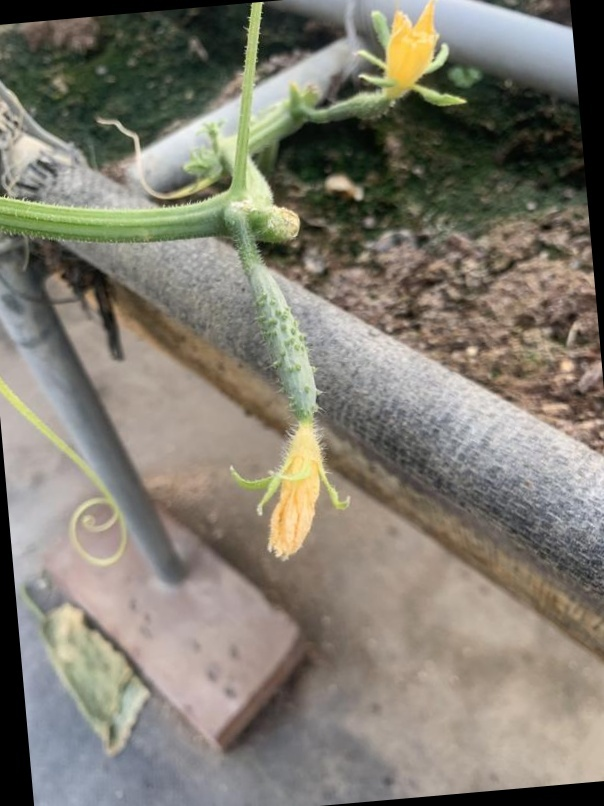bear: (222, 240, 355, 566), (321, 3, 463, 128)
